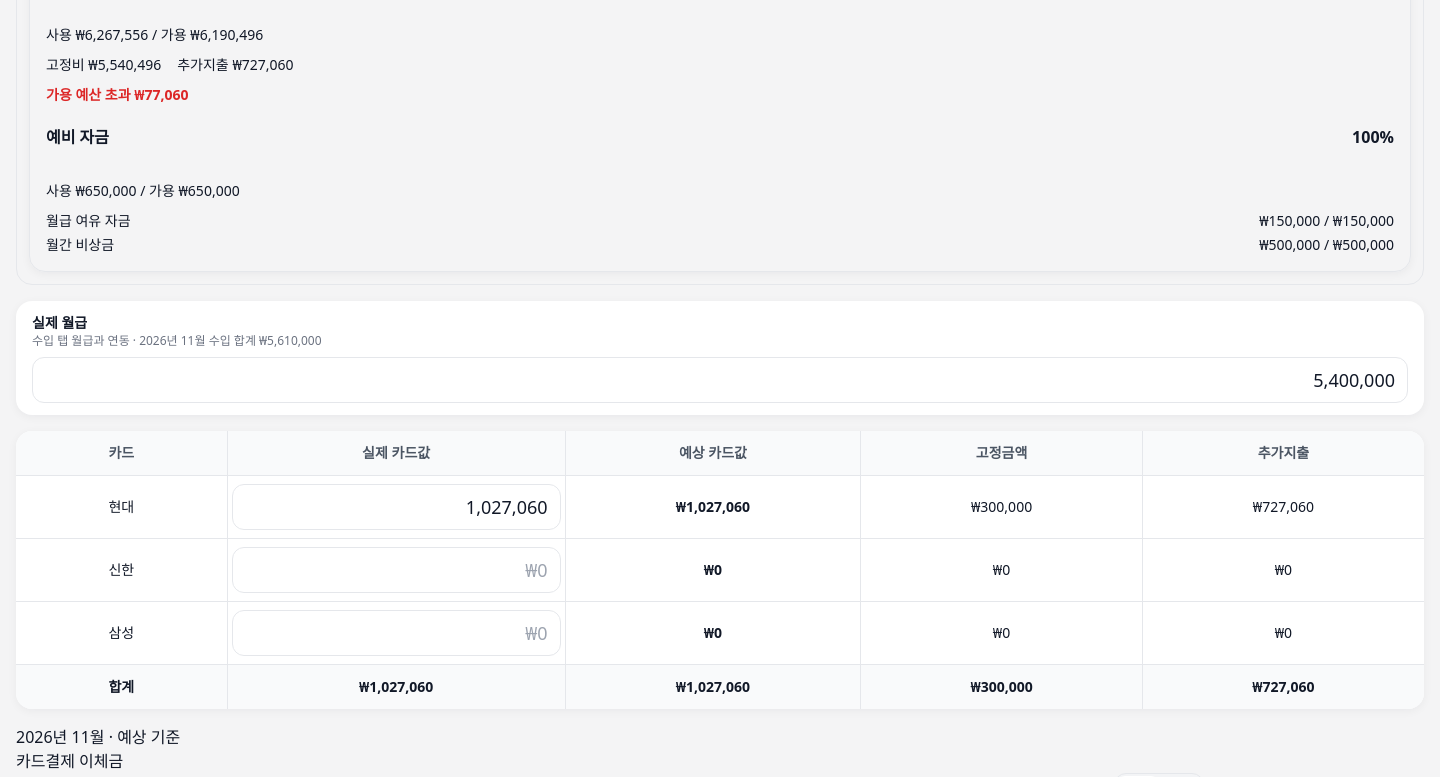
Test: DashboardPage › syncs actual salary above the card table with income and recalculates shortage and card transfer total
The width and height of the screenshot is (1440, 777).
(page scrolled)
Check: the text "기준 대비" is not shown
Check: the field labelled "월급 변동 반영" is not shown
# Focus and blur without changes does not write to storage
Click the field named "실제 월급": (720, 380) [32, 357, 1408, 403]
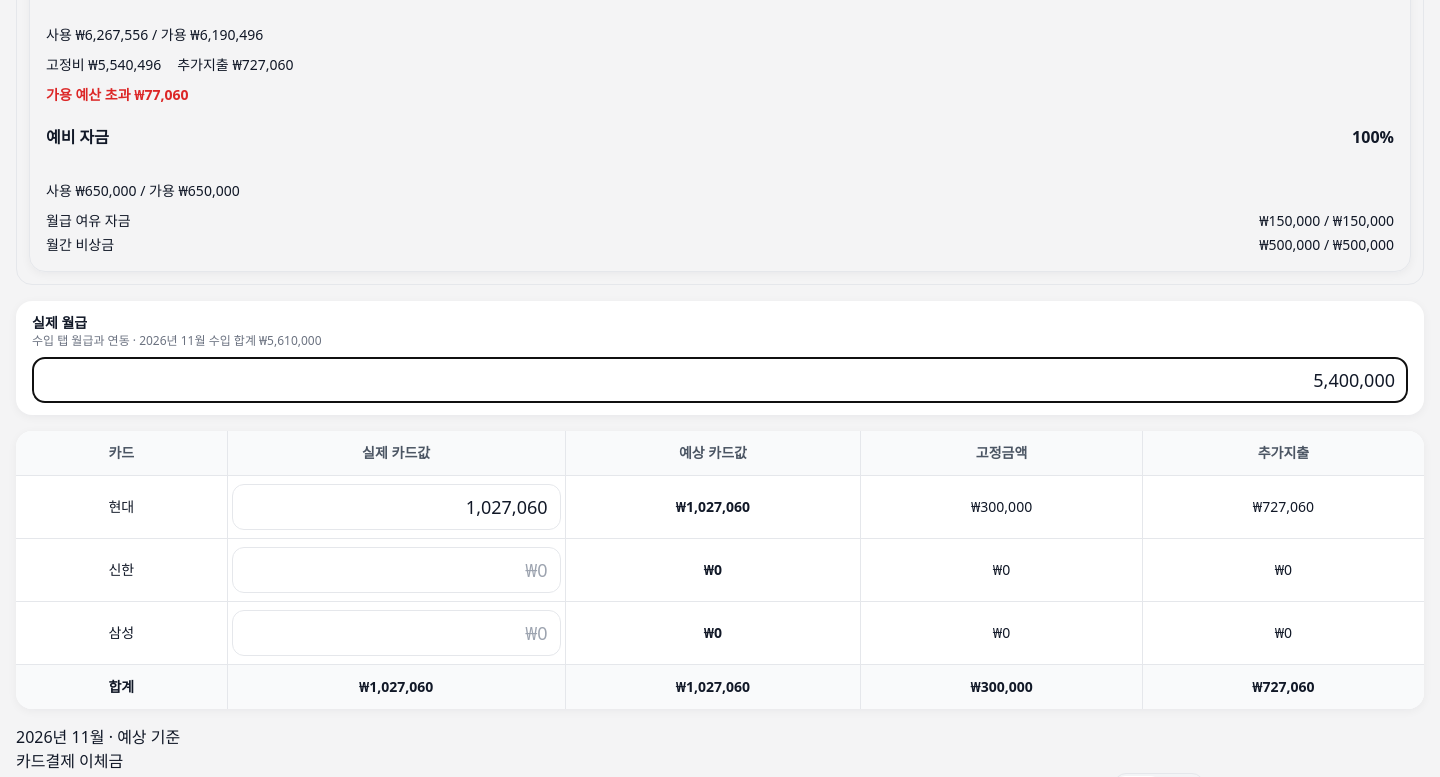
Press Tab
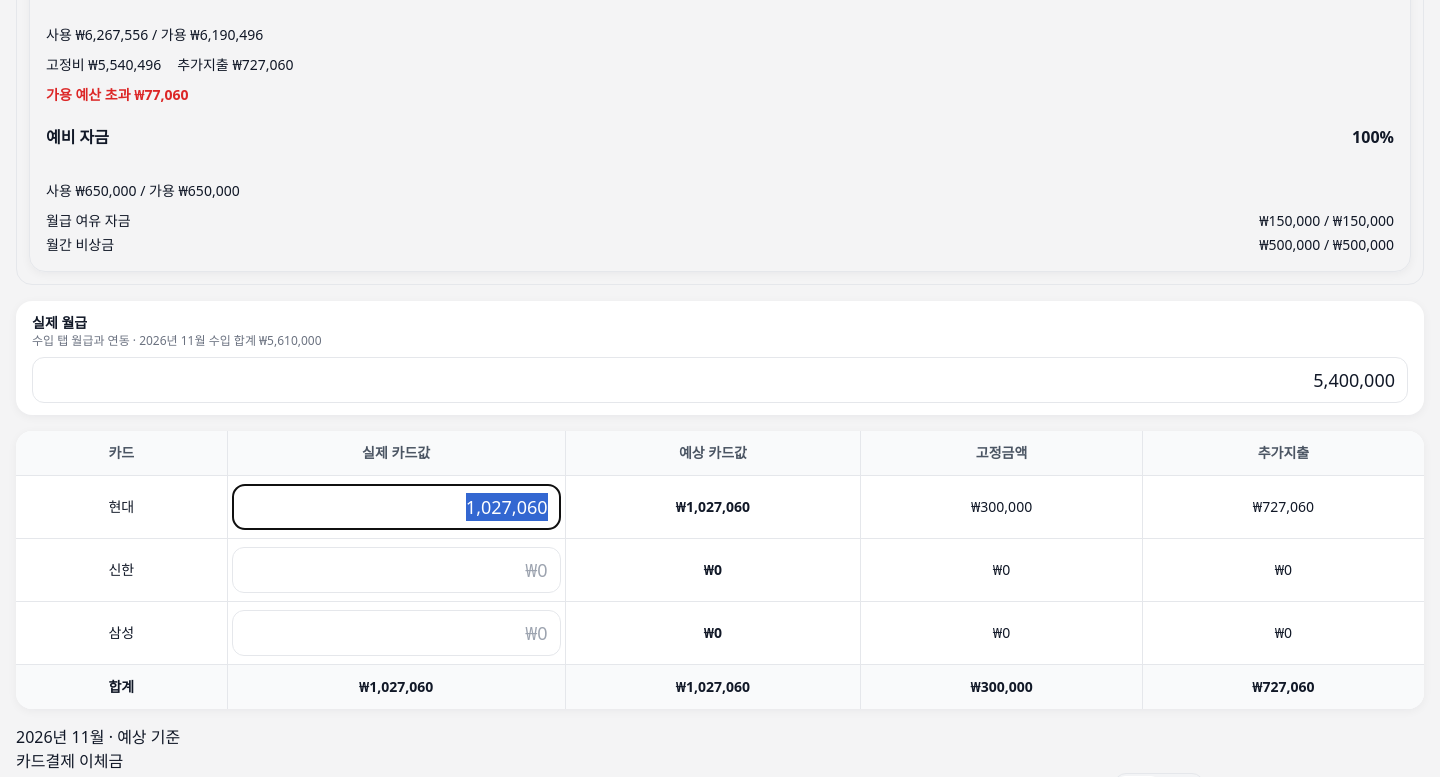
Replace the text in the field named "실제 월급" with "5000000": (720, 380) [32, 357, 1408, 403]
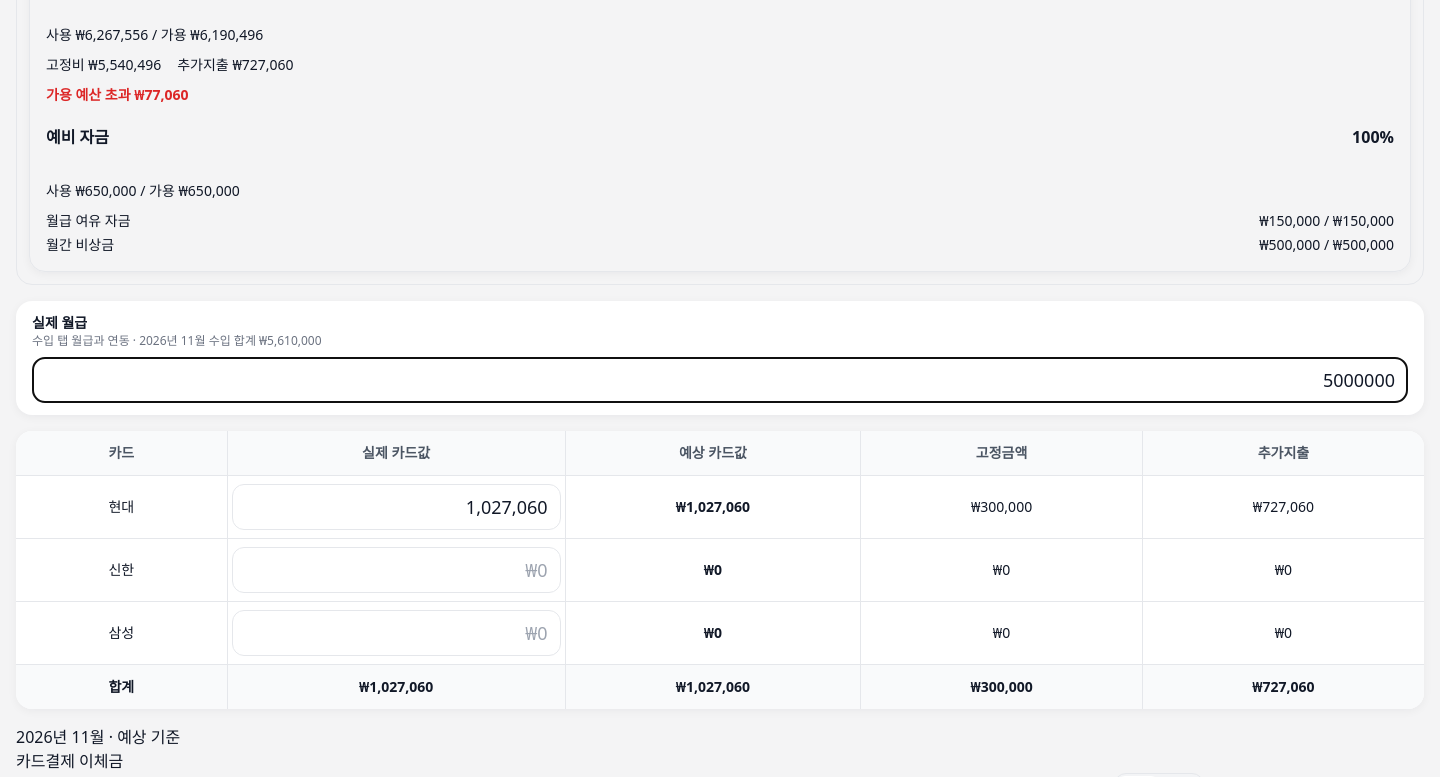
Press Tab
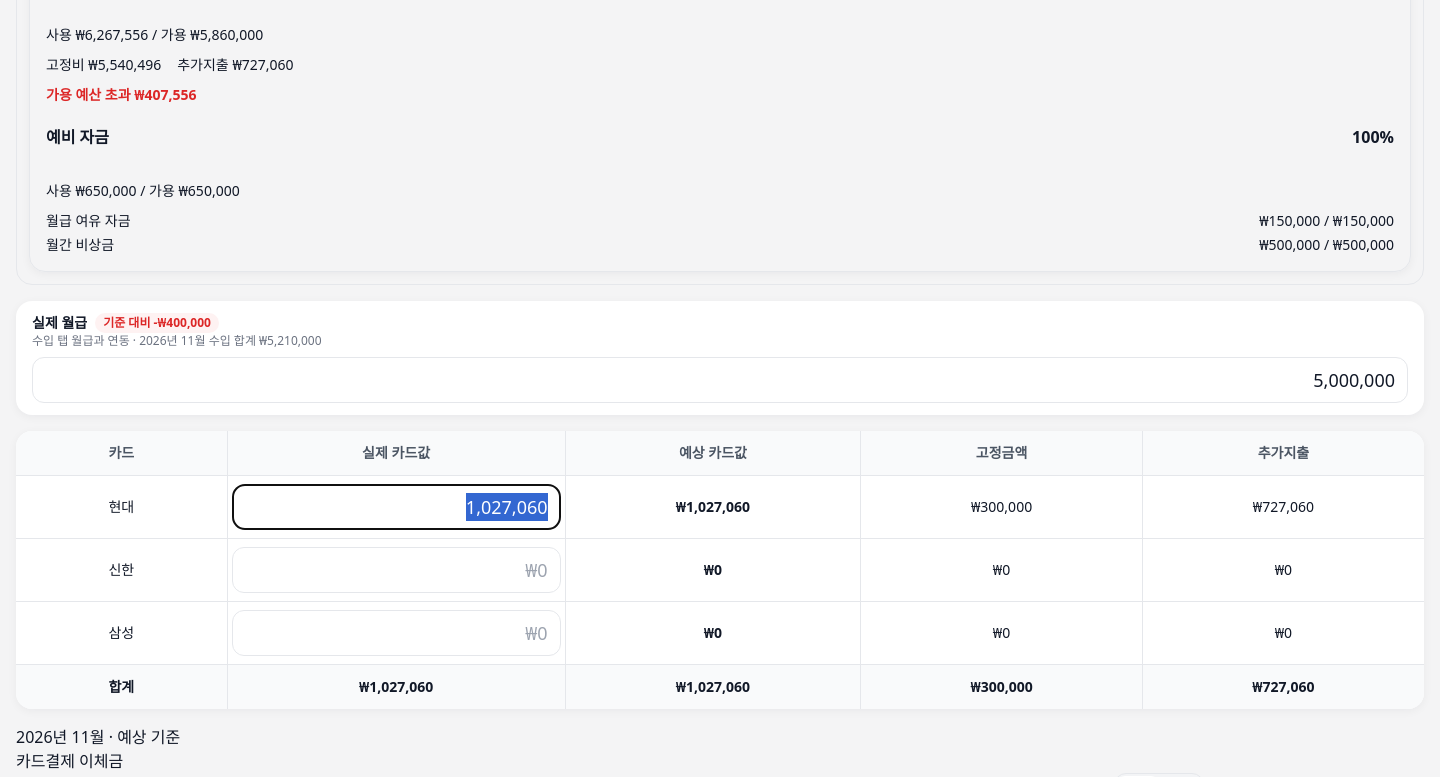
Check: the text "기준 대비 -₩400,000" is shown, box [95, 313, 219, 333]
Replace the text in the field named "실제 월급" with "6000000": (720, 380) [32, 357, 1408, 403]
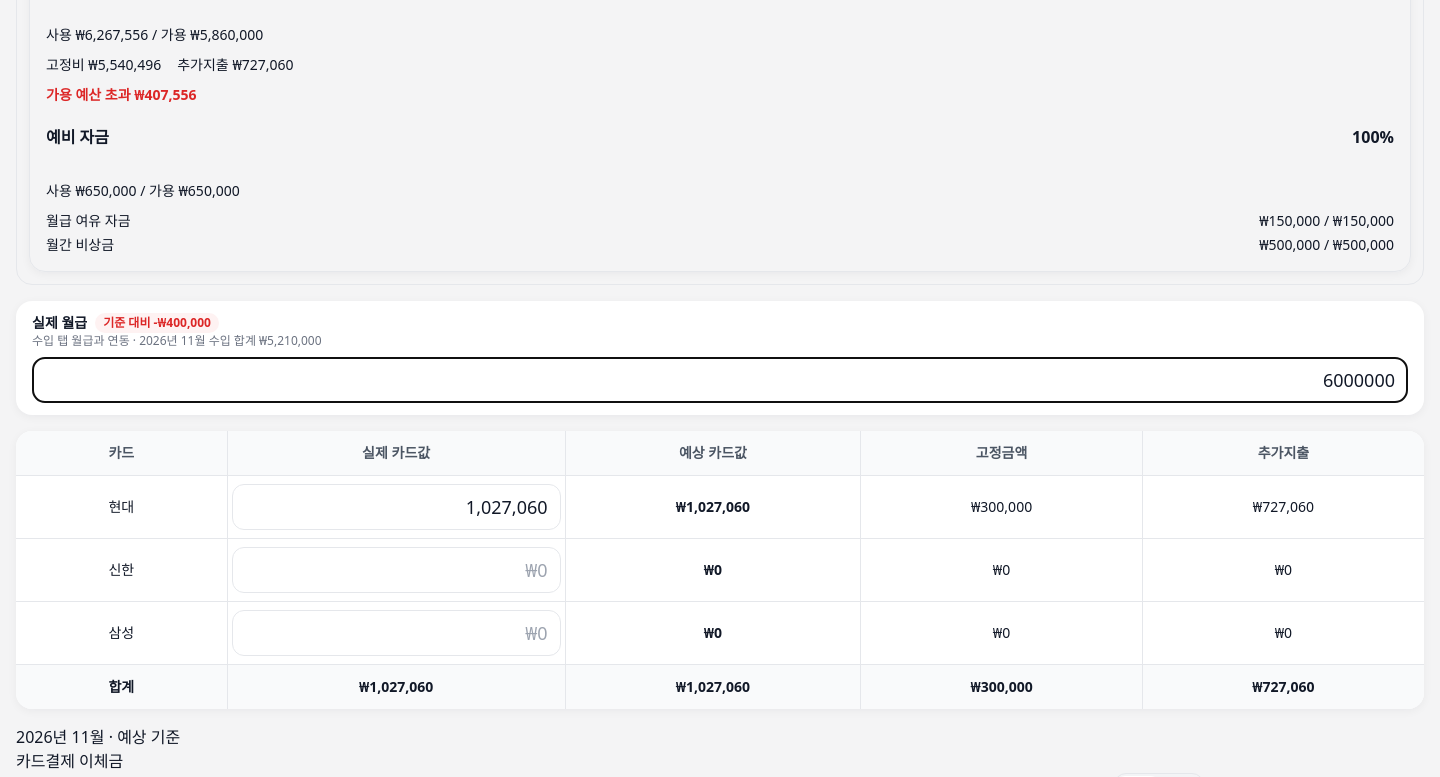
Press Tab
(page scrolled)
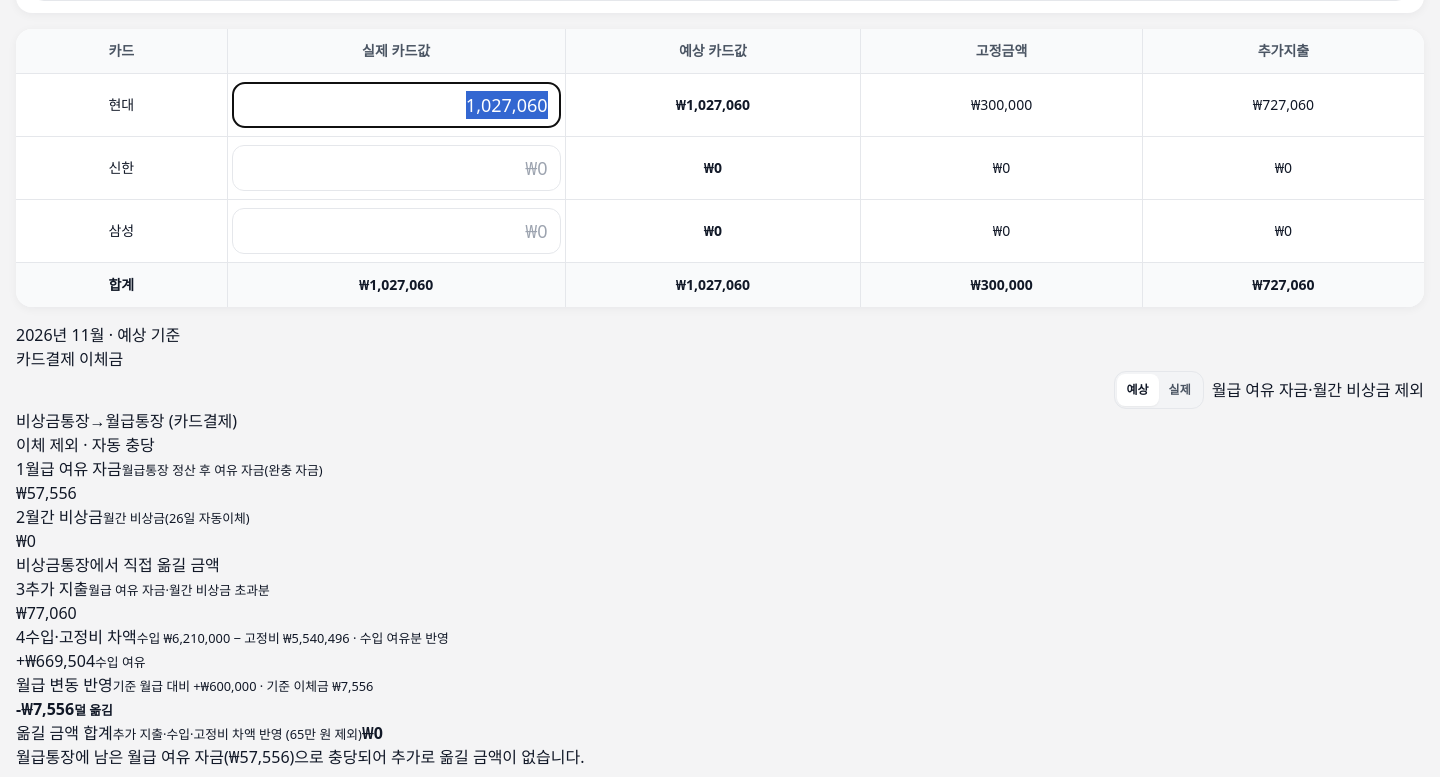
Check: the element labelled "수입·고정비 차액" shows "+₩669,504", box [16, 650, 95, 672]
Check: the element labelled "수입·고정비 차액" shows "수입 여유", box [95, 653, 146, 671]
Check: the text "₩0" next to "추가 지출·수입·고정비 차액 반영 (65만 원 제외)" is shown, box [362, 722, 383, 744]
